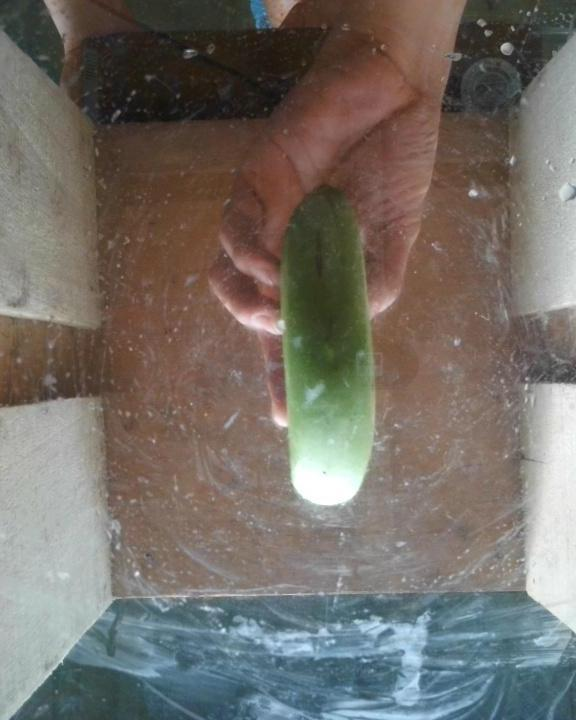CLASS B: (256, 164, 404, 524)
Class A: (304, 219, 344, 285), (314, 304, 355, 349)
